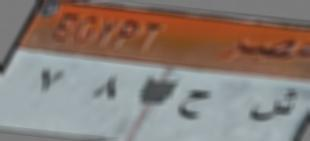7: (36, 67, 65, 95)
7aa: (177, 85, 212, 126)
8: (93, 75, 120, 102)
sheen: (248, 88, 298, 130)
